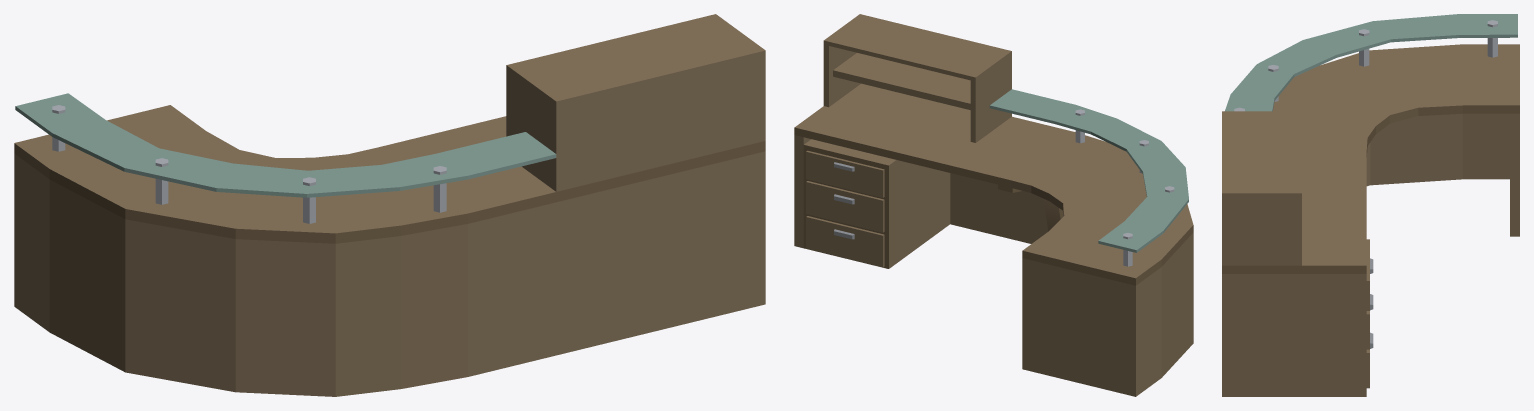
Rendered from Prop_Desk_01.glb.
The picture shows the model from 3 angles, left to right: view 1: azimuth 30°, elevation 25°; view 2: azimuth 150°, elevation 25°; view 3: azimuth 270°, elevation 25°; orthographic projection. The views are drawn at different scales.
Visible parts, largest first — view 1: SM_Prop_Desk_01, SM_Prop_Desk_Glass_01; view 2: SM_Prop_Desk_01, SM_Prop_Desk_Glass_01; view 3: SM_Prop_Desk_01, SM_Prop_Desk_Glass_01.
Boxes of the visible parts, box(x1,y1,x2,y2) form: SM_Prop_Desk_01: box(14, 14, 765, 396); SM_Prop_Desk_Glass_01: box(15, 93, 556, 197); SM_Prop_Desk_01: box(794, 14, 1193, 396); SM_Prop_Desk_Glass_01: box(989, 89, 1188, 252); SM_Prop_Desk_01: box(1222, 20, 1519, 396); SM_Prop_Desk_Glass_01: box(1225, 14, 1517, 111).
Size of the model in its own units: 3.14 by 1.35 by 1.78.
2 materials, 1 textured.
